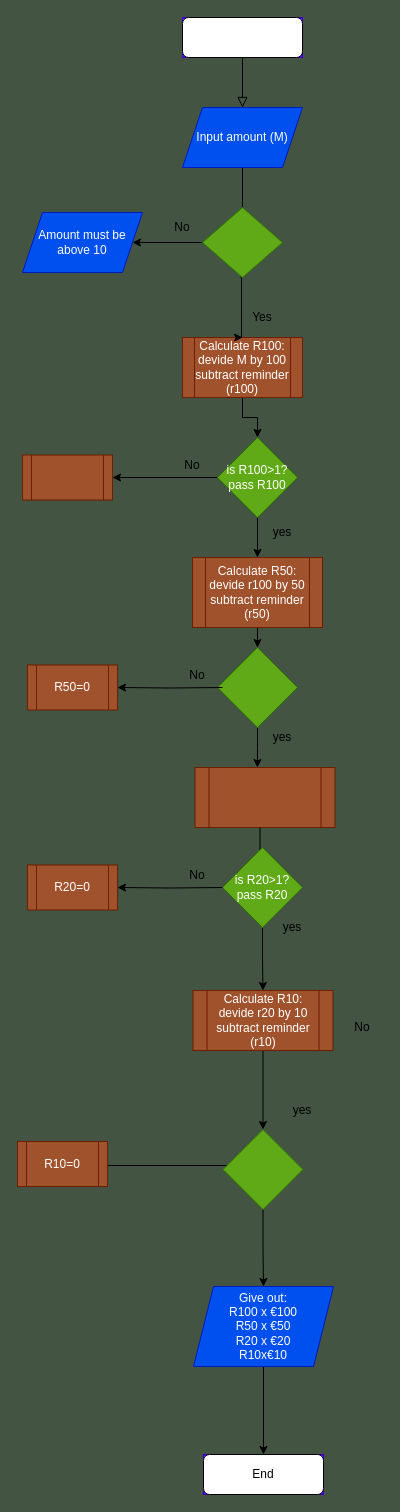
Image size: 400x1512. Some labels were removed from this diagram. Each missing label, with the centre of its shape:
"Calculate R20: devide r20 by 20 subtract reminder (r20)" belongs at (x=264, y=797).
"is R10>1? pass R10" belongs at (x=262, y=1169).
"is R50>1? pass R50" belongs at (x=257, y=687).
"M > 10?" belongs at (x=242, y=242).
"R100=0" belongs at (x=67, y=477).
"start" belongs at (x=242, y=37).
